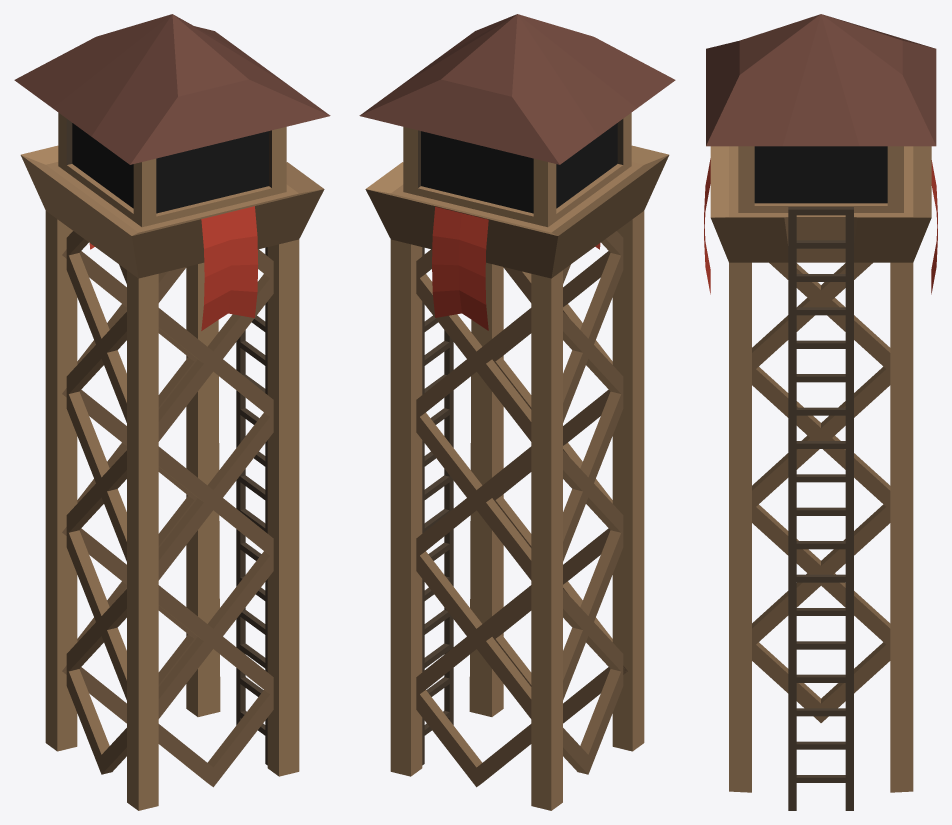
The model's file is FBX - Tower(Human).fbx.
3 renders of one model, left to right at view 1: azimuth 30°, elevation 25°; view 2: azimuth 150°, elevation 25°; view 3: azimuth 270°, elevation 25°, orthographic.
Visible parts, largest first — view 1: Plane.001, SupportBeams, SupportBeams.002, SupportBeams.001, Banner, Ladder; view 2: Plane.001, SupportBeams.001, SupportBeams.002, SupportBeams, Banner.001, Ladder; view 3: Plane.001, Ladder, SupportBeams.002.
Boxes of the visible parts, left/top/right/bottom form: Plane.001: left=14, top=14, right=330, bottom=810; SupportBeams: left=158, top=249, right=273, bottom=787; SupportBeams.002: left=66, top=231, right=126, bottom=774; SupportBeams.001: left=62, top=249, right=197, bottom=723; Banner: left=201, top=206, right=258, bottom=330; Ladder: left=236, top=247, right=267, bottom=765; Plane.001: left=359, top=14, right=675, bottom=810; SupportBeams.001: left=416, top=249, right=531, bottom=787; SupportBeams.002: left=563, top=231, right=623, bottom=774; SupportBeams: left=492, top=251, right=627, bottom=723; Banner.001: left=432, top=206, right=488, bottom=330; Ladder: left=422, top=247, right=453, bottom=765; Plane.001: left=706, top=14, right=936, bottom=792; Ladder: left=788, top=207, right=853, bottom=810; SupportBeams.002: left=752, top=262, right=890, bottom=722.
Bounding box in the file's own units: 375 × 1357 × 381.
